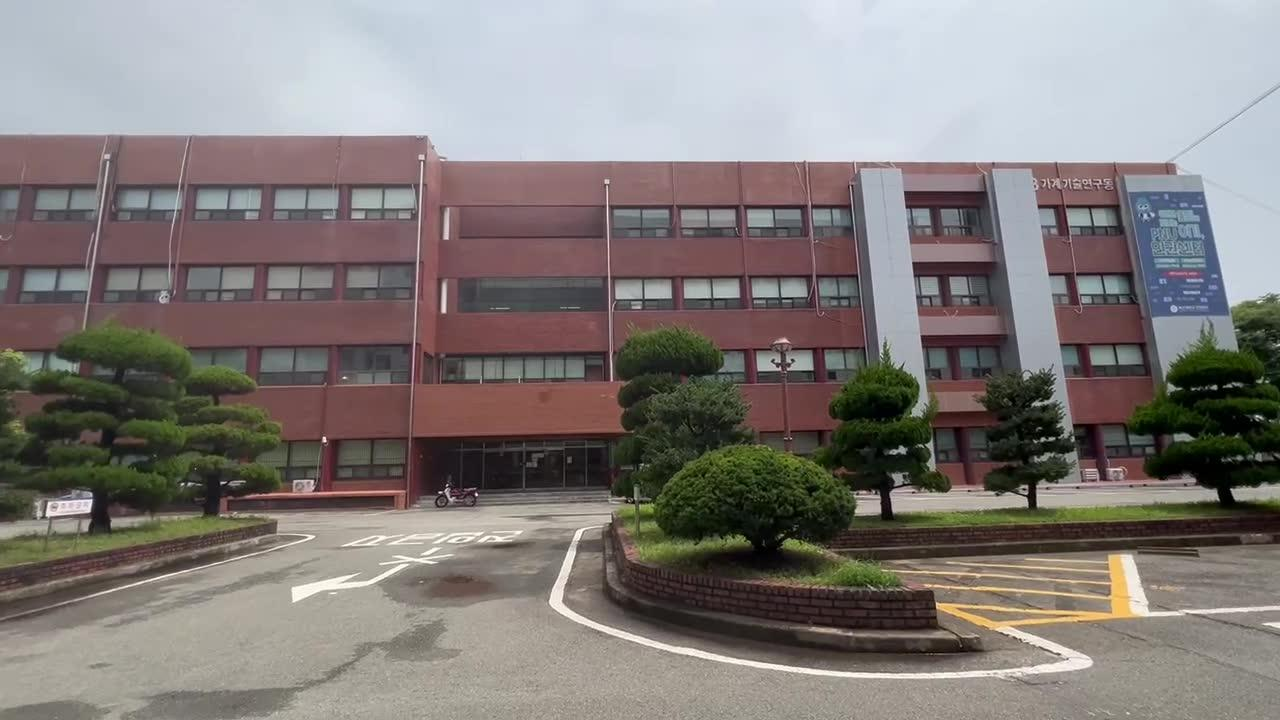building: (78, 123, 1112, 346)
